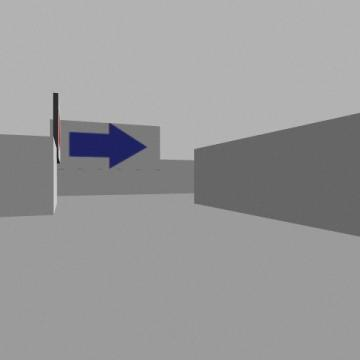blue_right: (69, 124, 146, 168)
